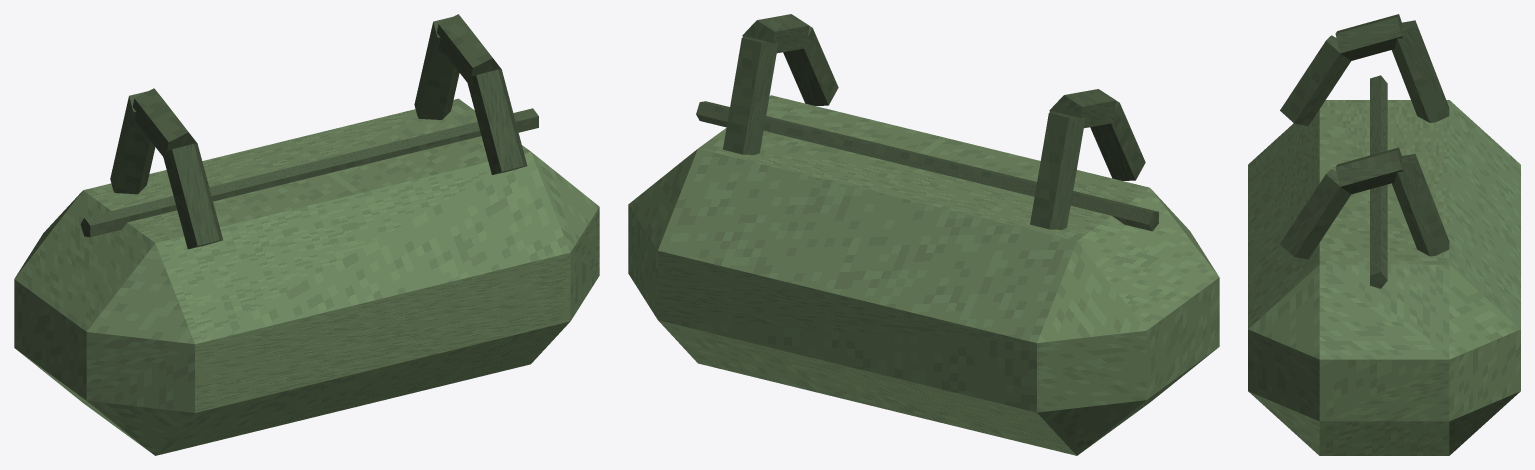
File: duffelbag_gym_xxs.glb
3 views of the same model, side by side, from view 1: azimuth 30°, elevation 25°; view 2: azimuth 150°, elevation 25°; view 3: azimuth 270°, elevation 25° (orthographic). The views are drawn at different scales.
Visible parts, largest first — view 1: block_soft-sided bag, block_carry handle 2 (×2), block_long metal zipper 0, block_carry handle 0 (×2), block_carry handle 1 (×2); view 2: block_soft-sided bag, block_carry handle 0 (×2), block_long metal zipper 0, block_carry handle 2 (×2), block_carry handle 1 (×2); view 3: block_soft-sided bag, block_carry handle 0 (×2), block_carry handle 2 (×2), block_carry handle 1 (×2), block_long metal zipper 0.
Part boxes in pixels (bbox=[...]): block_soft-sided bag: bbox=[14, 98, 599, 455]; block_carry handle 2 (×2): bbox=[163, 69, 527, 249]; block_long metal zipper 0: bbox=[80, 108, 538, 237]; block_carry handle 0 (×2): bbox=[110, 17, 459, 194]; block_carry handle 1 (×2): bbox=[132, 14, 501, 159]; block_soft-sided bag: bbox=[628, 95, 1219, 455]; block_carry handle 0 (×2): bbox=[723, 36, 1085, 229]; block_long metal zipper 0: bbox=[696, 101, 1158, 231]; block_carry handle 2 (×2): bbox=[783, 26, 1145, 180]; block_carry handle 1 (×2): bbox=[742, 14, 1116, 128]; block_soft-sided bag: bbox=[1248, 100, 1520, 455]; block_carry handle 0 (×2): bbox=[1391, 20, 1449, 256]; block_carry handle 2 (×2): bbox=[1280, 35, 1350, 259]; block_carry handle 1 (×2): bbox=[1335, 14, 1402, 194]; block_long metal zipper 0: bbox=[1370, 75, 1387, 288].
Size of the model in its own units: 0.3043 by 0.1847 by 0.1559.
Materials: 1 (1 with a texture image).
